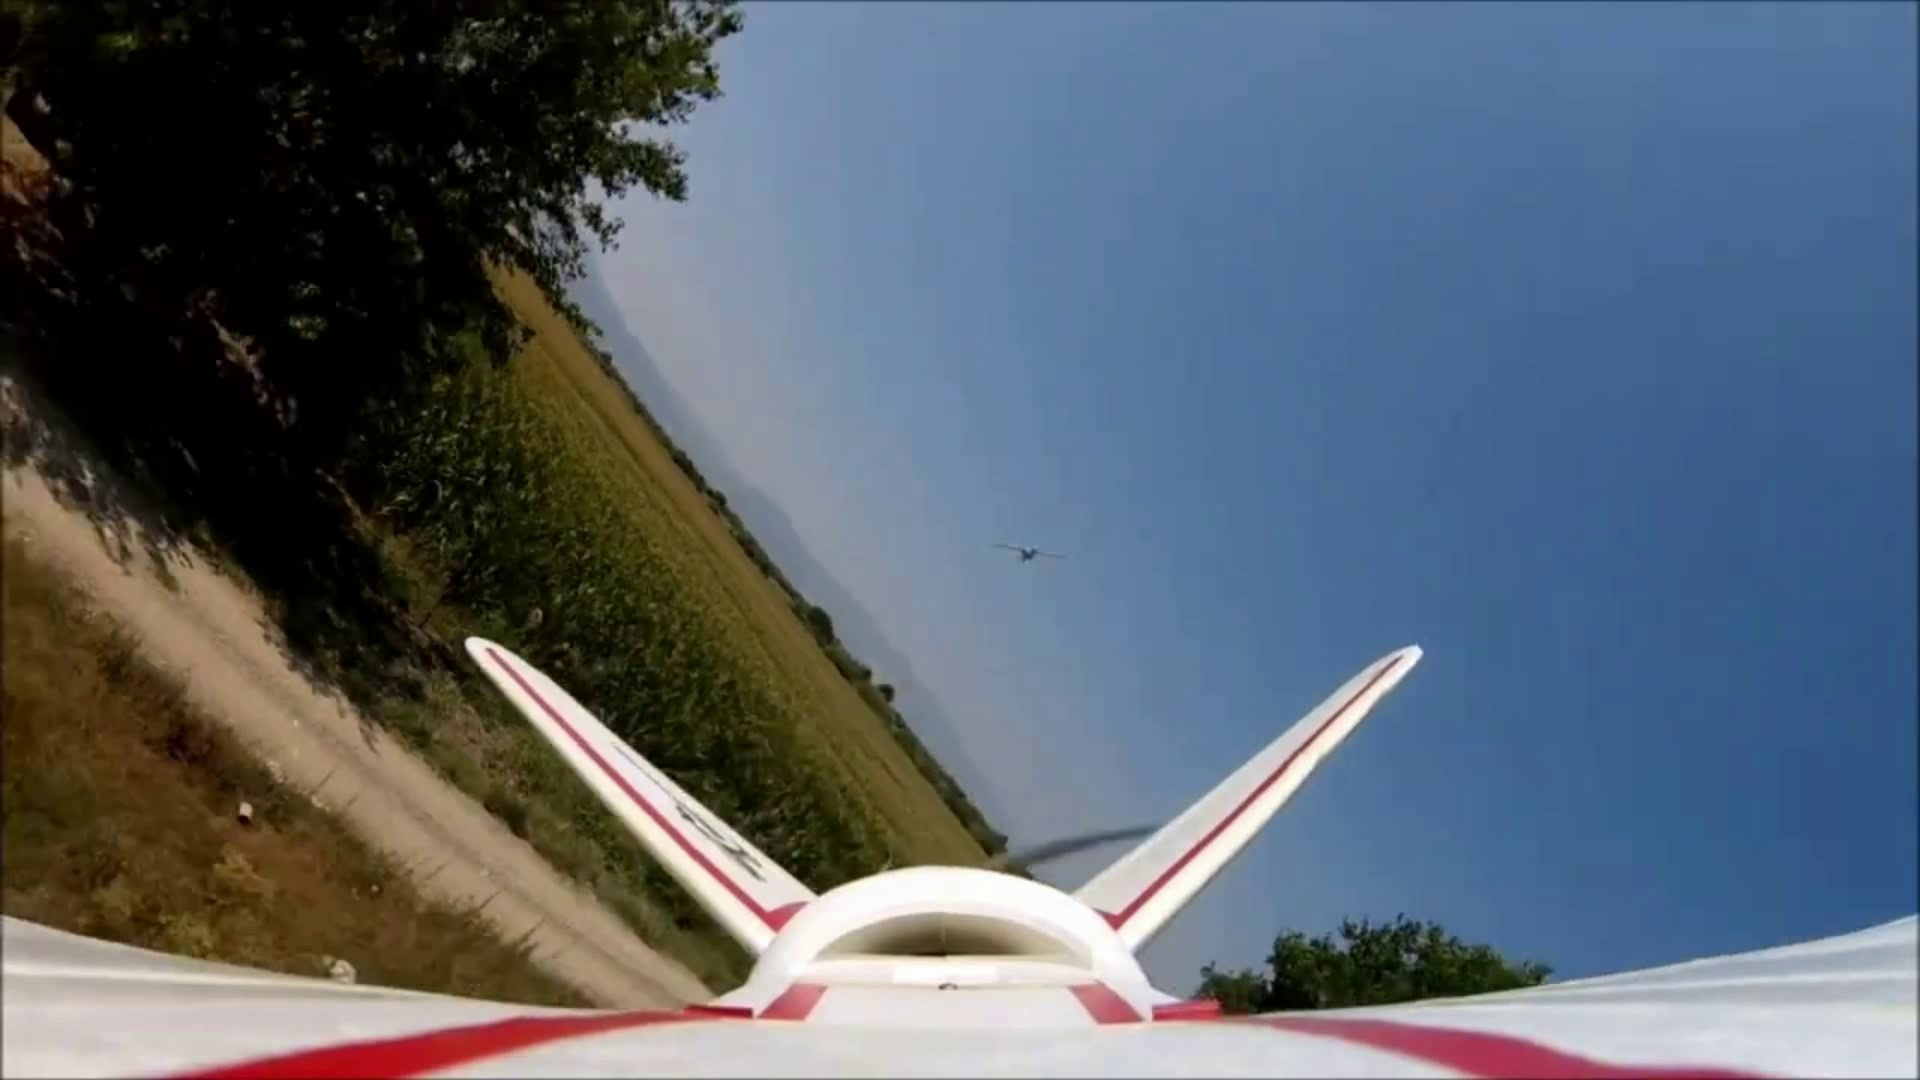airplane: (11, 632, 1902, 1065)
